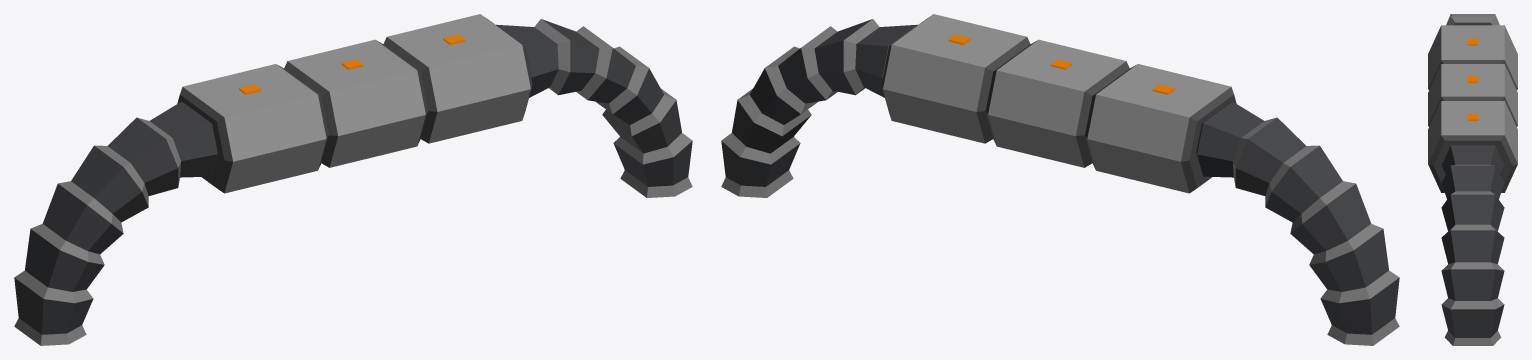
The model's file is TubePiece_02.glb.
3 renders of one model, left to right at view 1: azimuth 30°, elevation 25°; view 2: azimuth 150°, elevation 25°; view 3: azimuth 270°, elevation 25°, orthographic. The views are drawn at different scales.
Parts seen in each view (by area): view 1: TubePiece_02; view 2: TubePiece_02; view 3: TubePiece_02.
Boxes of the visible parts, box(x1,y1,x2,y2) form: TubePiece_02: box(14, 14, 692, 345); TubePiece_02: box(721, 14, 1399, 345); TubePiece_02: box(1428, 14, 1517, 345).
Size of what is drawn, in the model's own units: 3.87 by 1.1 by 0.6113.
Materials: 2 (2 with a texture image).
